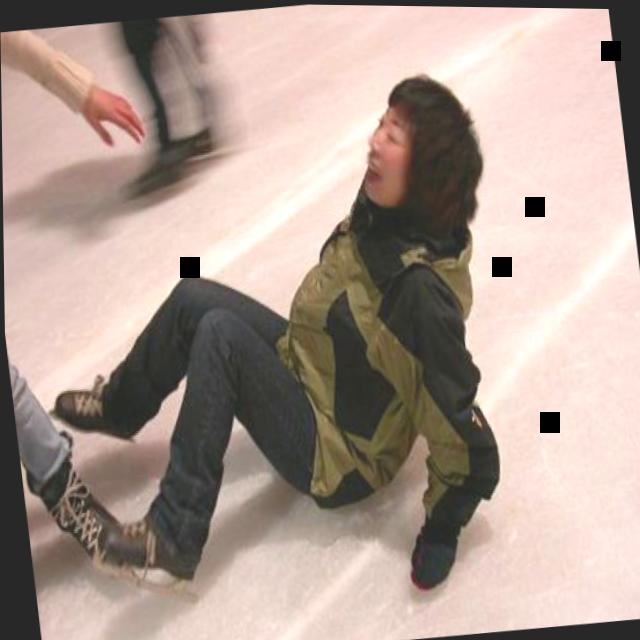Fall-Detected: (0, 41, 520, 626)
